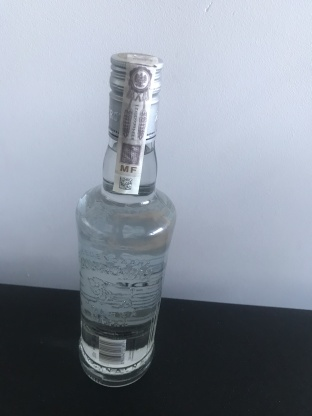nakretka: (106, 46, 165, 147)
